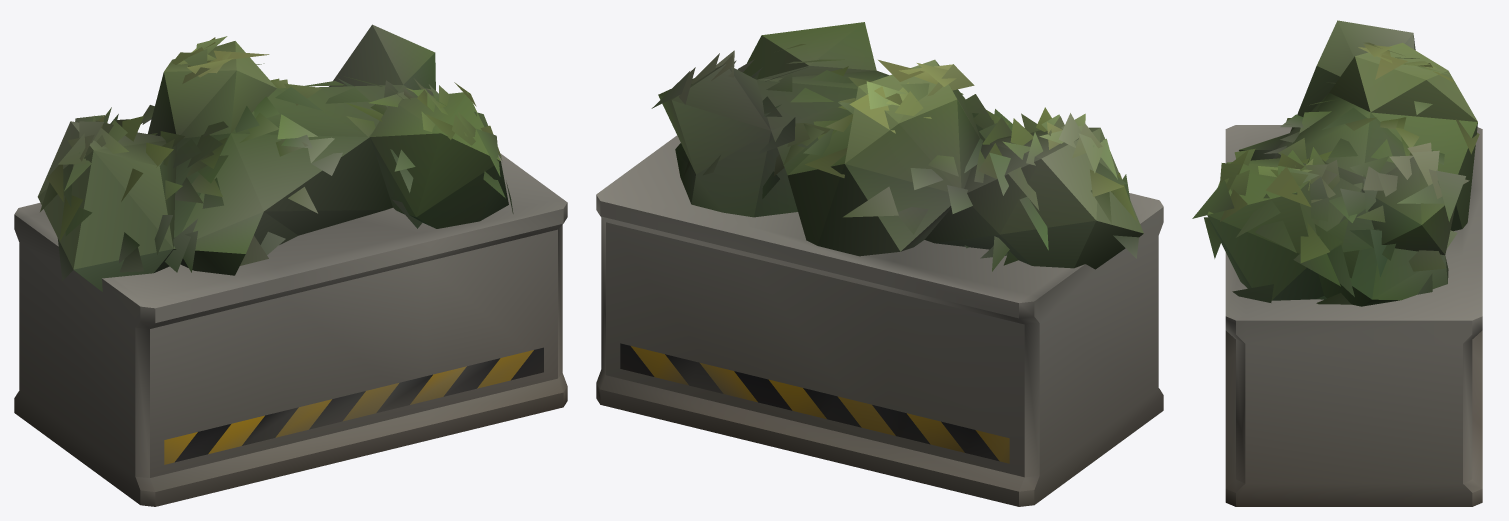
The model's file is planter.glb.
The picture shows the model from 3 angles, left to right: view 1: azimuth 30°, elevation 25°; view 2: azimuth 150°, elevation 25°; view 3: azimuth 270°, elevation 25°; orthographic projection. The views are drawn at different scales.
Visible parts, largest first — view 1: Planter; view 2: Planter; view 3: Planter.
Boxes of the visible parts, <box> form: Planter: <box>14,24,567,506</box>; Planter: <box>596,22,1163,506</box>; Planter: <box>1192,20,1482,506</box>.
Size of the model in its own units: 1.92 by 1.42 by 1.18.
